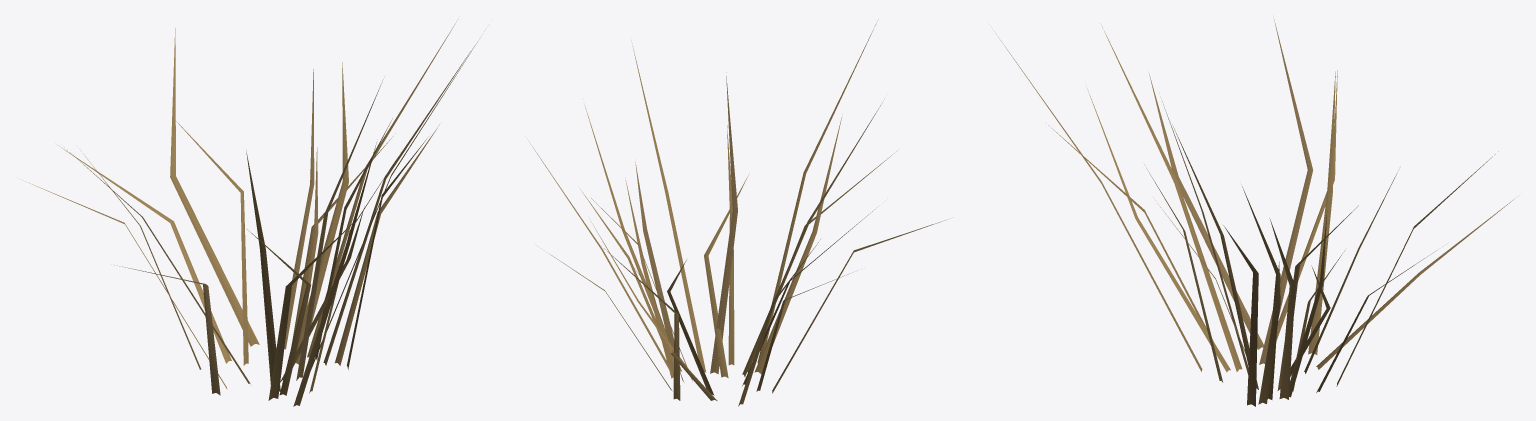
The model's file is SM_CN_Grass_A_LOD2.glb.
3 renders of one model, left to right at view 1: azimuth 30°, elevation 25°; view 2: azimuth 150°, elevation 25°; view 3: azimuth 270°, elevation 25°, orthographic. The views are drawn at different scales.
Parts seen in each view (by area): view 1: SM_CN_Grass_A_LOD2; view 2: SM_CN_Grass_A_LOD2; view 3: SM_CN_Grass_A_LOD2.
Boxes of the visible parts, left/top/right/bottom form: SM_CN_Grass_A_LOD2: left=25, top=21, right=477, bottom=406; SM_CN_Grass_A_LOD2: left=529, top=19, right=947, bottom=406; SM_CN_Grass_A_LOD2: left=994, top=19, right=1516, bottom=406.
Size of the model in its own units: 0.5577 by 0.43 by 0.62.
1 material, 1 textured.
